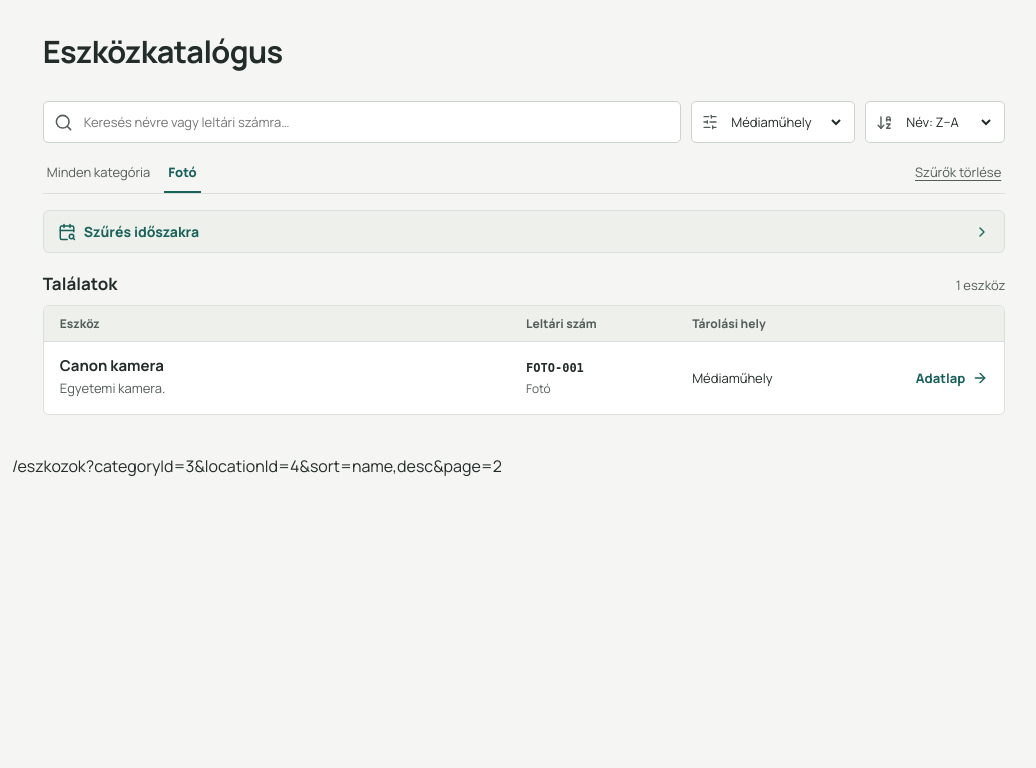
Test: időszakra szűrt katalógus › csak alkalmazáskor küldi a budapesti időszakot, megtartja a szűrőket és törli az oldalszámot
Expected: the heading "Canon kamera" is shown, [60,355,164,376]
Click the heading "Szűrés időszakra". click: point(141, 232)
box: [58,222,990,241]
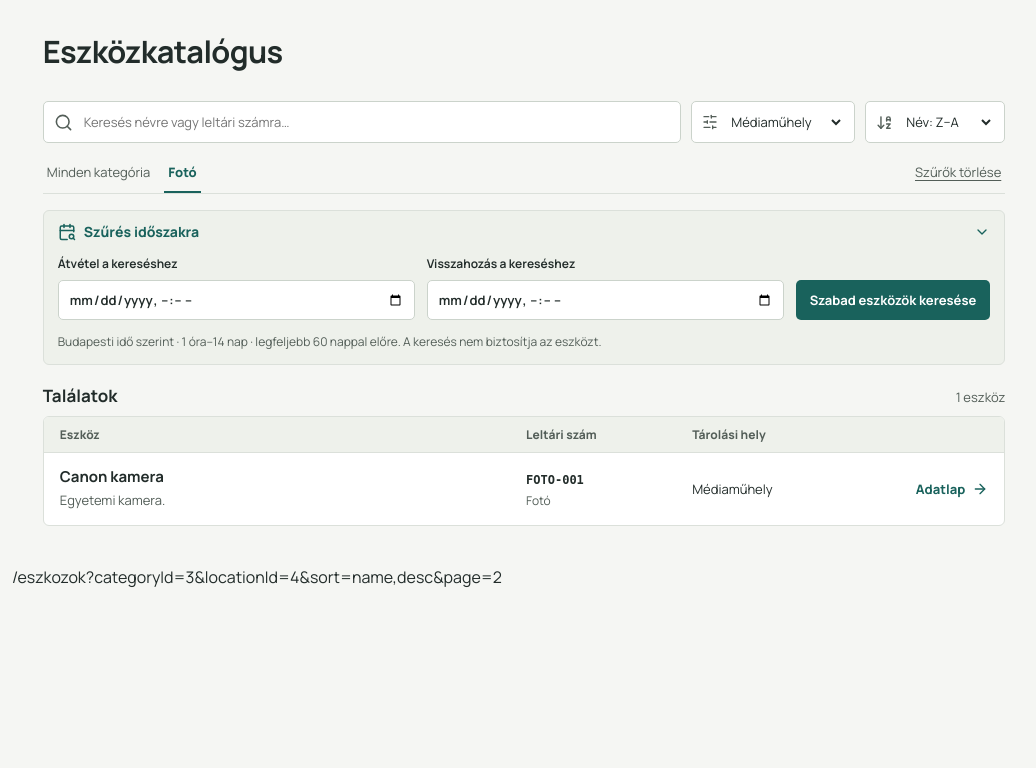
Type "2026-11-12T09:00" into the field labelled "Átvétel a kereséshez". click: point(236, 300)
box: [58,280,415,320]
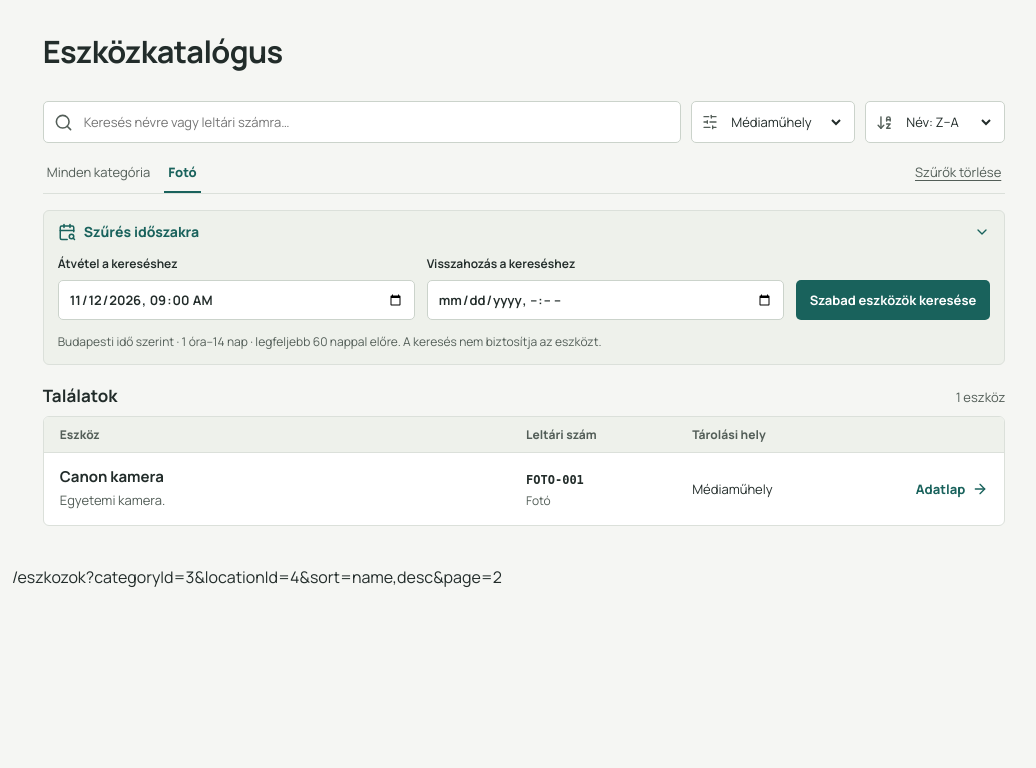
Type "2026-11-12T12:00" into the field labelled "Visszahozás a kereséshez". click: point(605, 300)
box: [427,280,784,320]
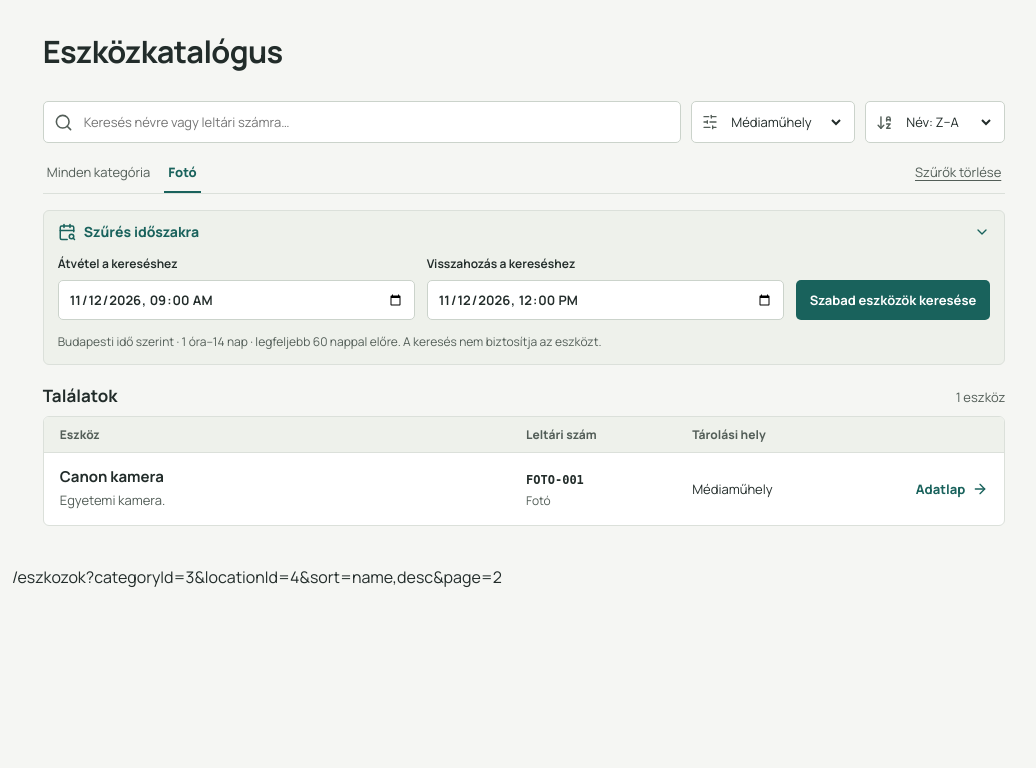
Click the button "Szabad eszközök keresése". click: point(893, 300)
box: [796,280,990,320]
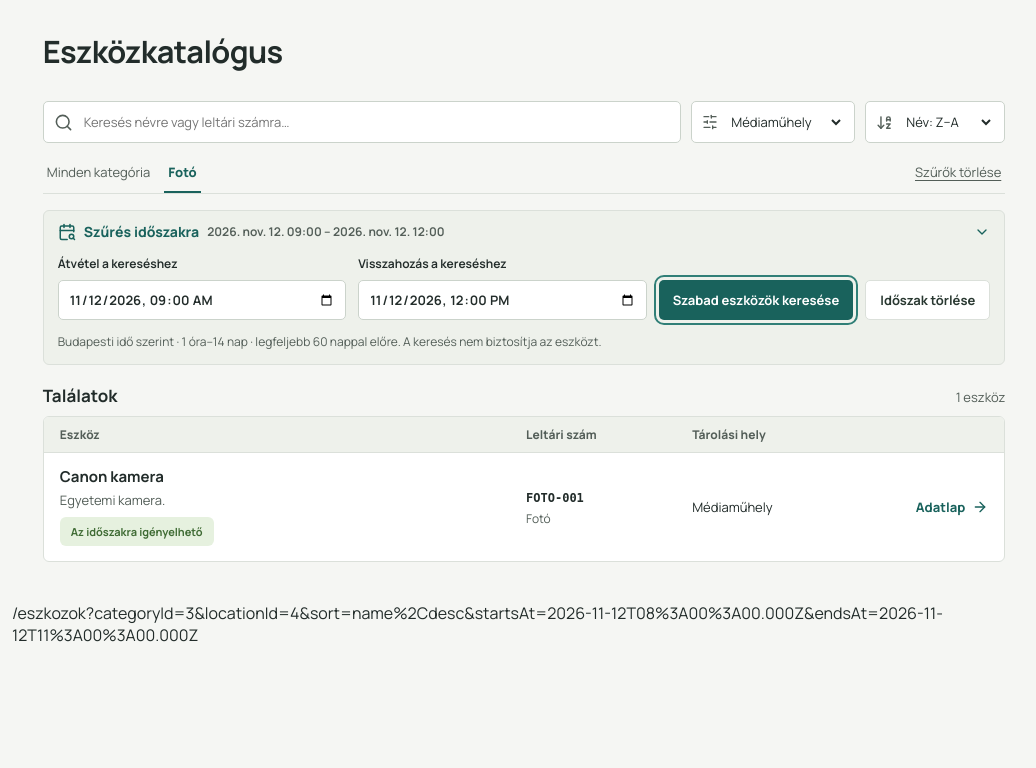
Result: the text "Az időszakra igényelhető" is shown at [60,517,214,546]
